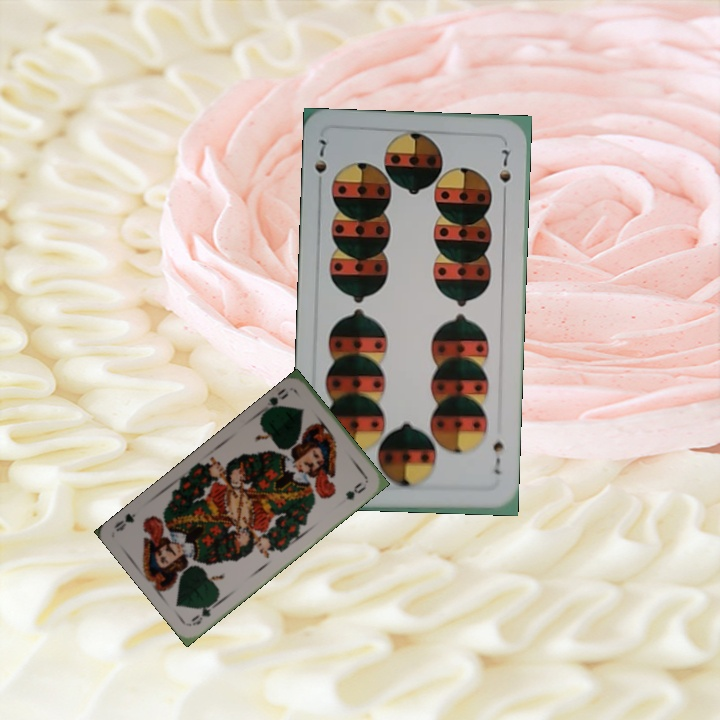GO: (187, 594, 222, 628), (260, 383, 291, 415)
S7: (310, 135, 330, 176), (489, 437, 506, 477)
